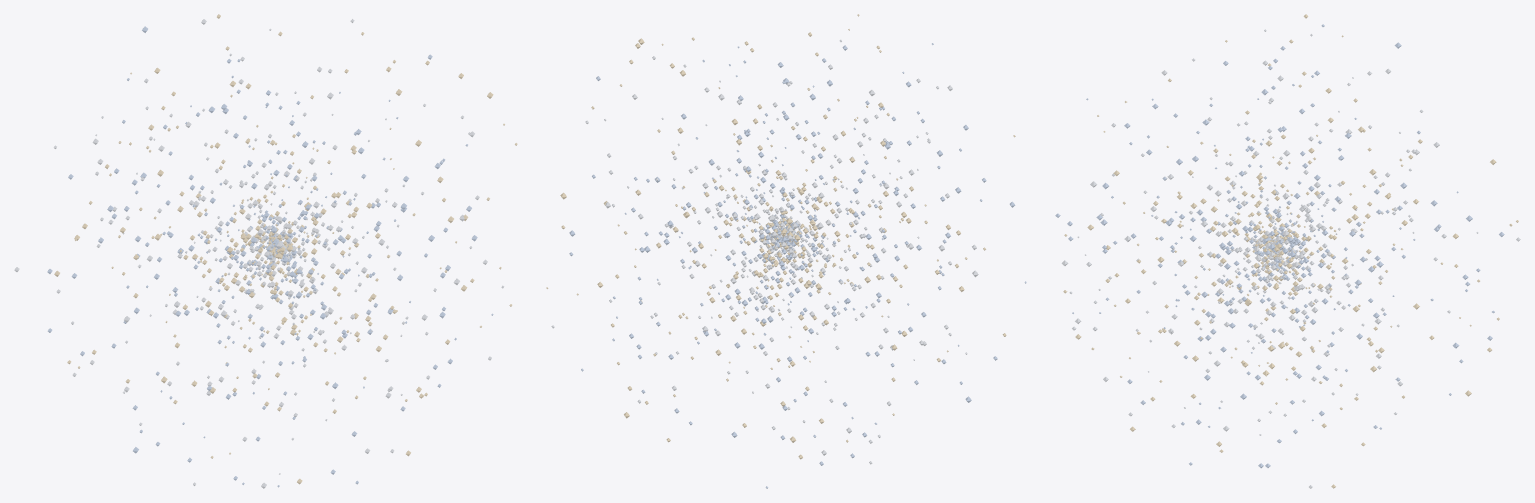
3 views of the same model, side by side, from view 1: azimuth 30°, elevation 25°; view 2: azimuth 150°, elevation 25°; view 3: azimuth 270°, elevation 25° (orthographic). The views are drawn at different scales.
Bounding box in the file's own units: 4.85 × 4.99 × 4.91.
